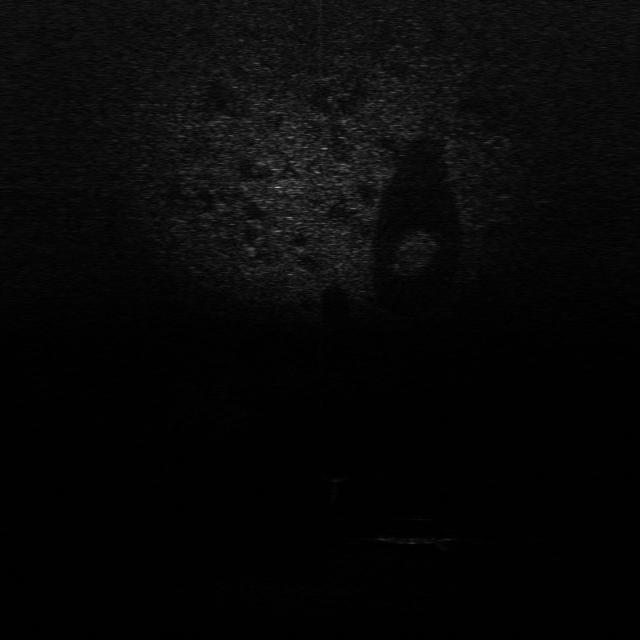ball: (321, 462, 352, 483)
tyre: (371, 511, 458, 547)
